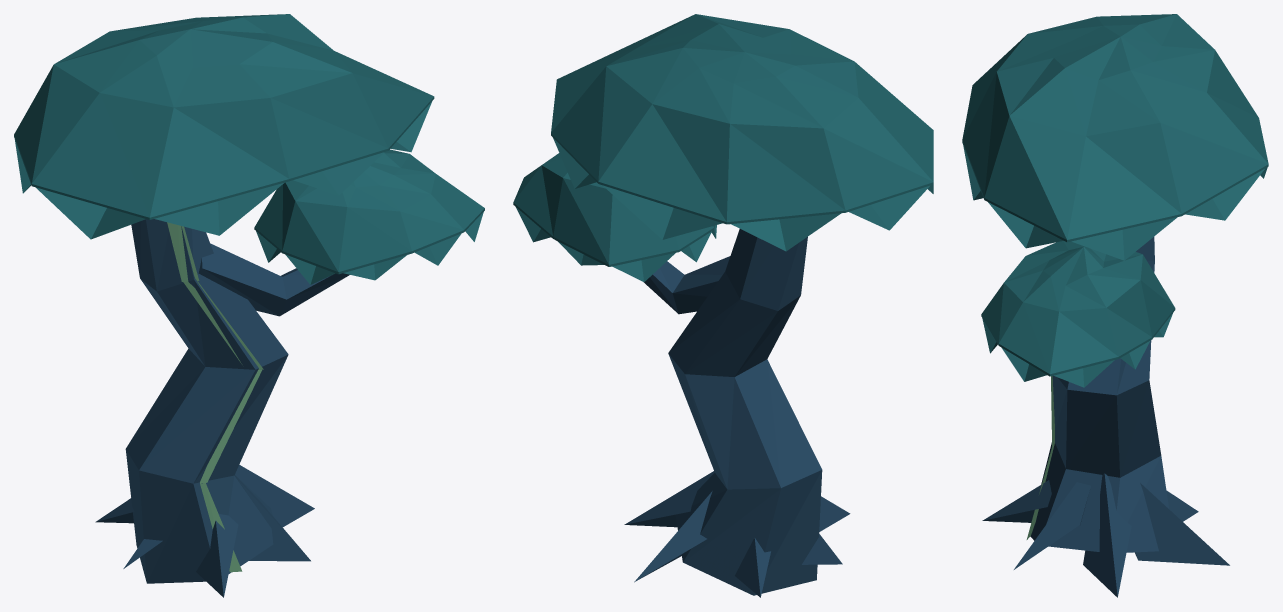
The picture shows the model from 3 angles, left to right: view 1: azimuth 30°, elevation 25°; view 2: azimuth 150°, elevation 25°; view 3: azimuth 270°, elevation 25°; orthographic projection.
Visible parts, largest first — view 1: 复用森林树_1.001; view 2: 复用森林树_1.001; view 3: 复用森林树_1.001.
Part boxes in pixels (x1,y1,x2,y2): 复用森林树_1.001: [14, 14, 484, 597]; 复用森林树_1.001: [513, 14, 933, 597]; 复用森林树_1.001: [962, 14, 1268, 597].
Size of the model in its own units: 0.5776 by 0.6745 by 0.3583.
